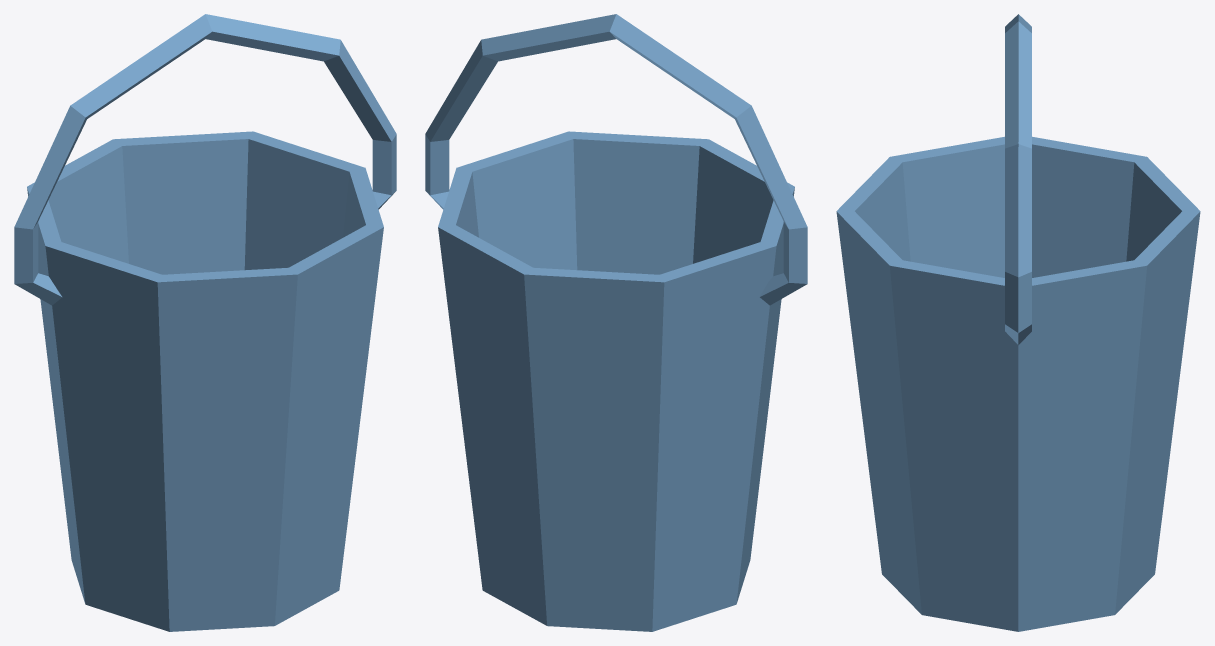
Rendered from Bucket3.fbx.
3 renders of one model, left to right at view 1: azimuth 30°, elevation 25°; view 2: azimuth 150°, elevation 25°; view 3: azimuth 270°, elevation 25°, orthographic.
Visible parts, largest first — view 1: Cylinder, Cylinder.001; view 2: Cylinder, Cylinder.001; view 3: Cylinder, Cylinder.001.
Part boxes in pixels (left/top/right/bottom): Cylinder: left=27, top=131, right=383, bottom=631; Cylinder.001: left=14, top=14, right=396, bottom=305; Cylinder: left=438, top=131, right=794, bottom=631; Cylinder.001: left=425, top=14, right=807, bottom=305; Cylinder: left=836, top=136, right=1200, bottom=631; Cylinder.001: left=1005, top=14, right=1031, bottom=344.
Size of the model in its own units: 0.717 by 1.01 by 0.6.
